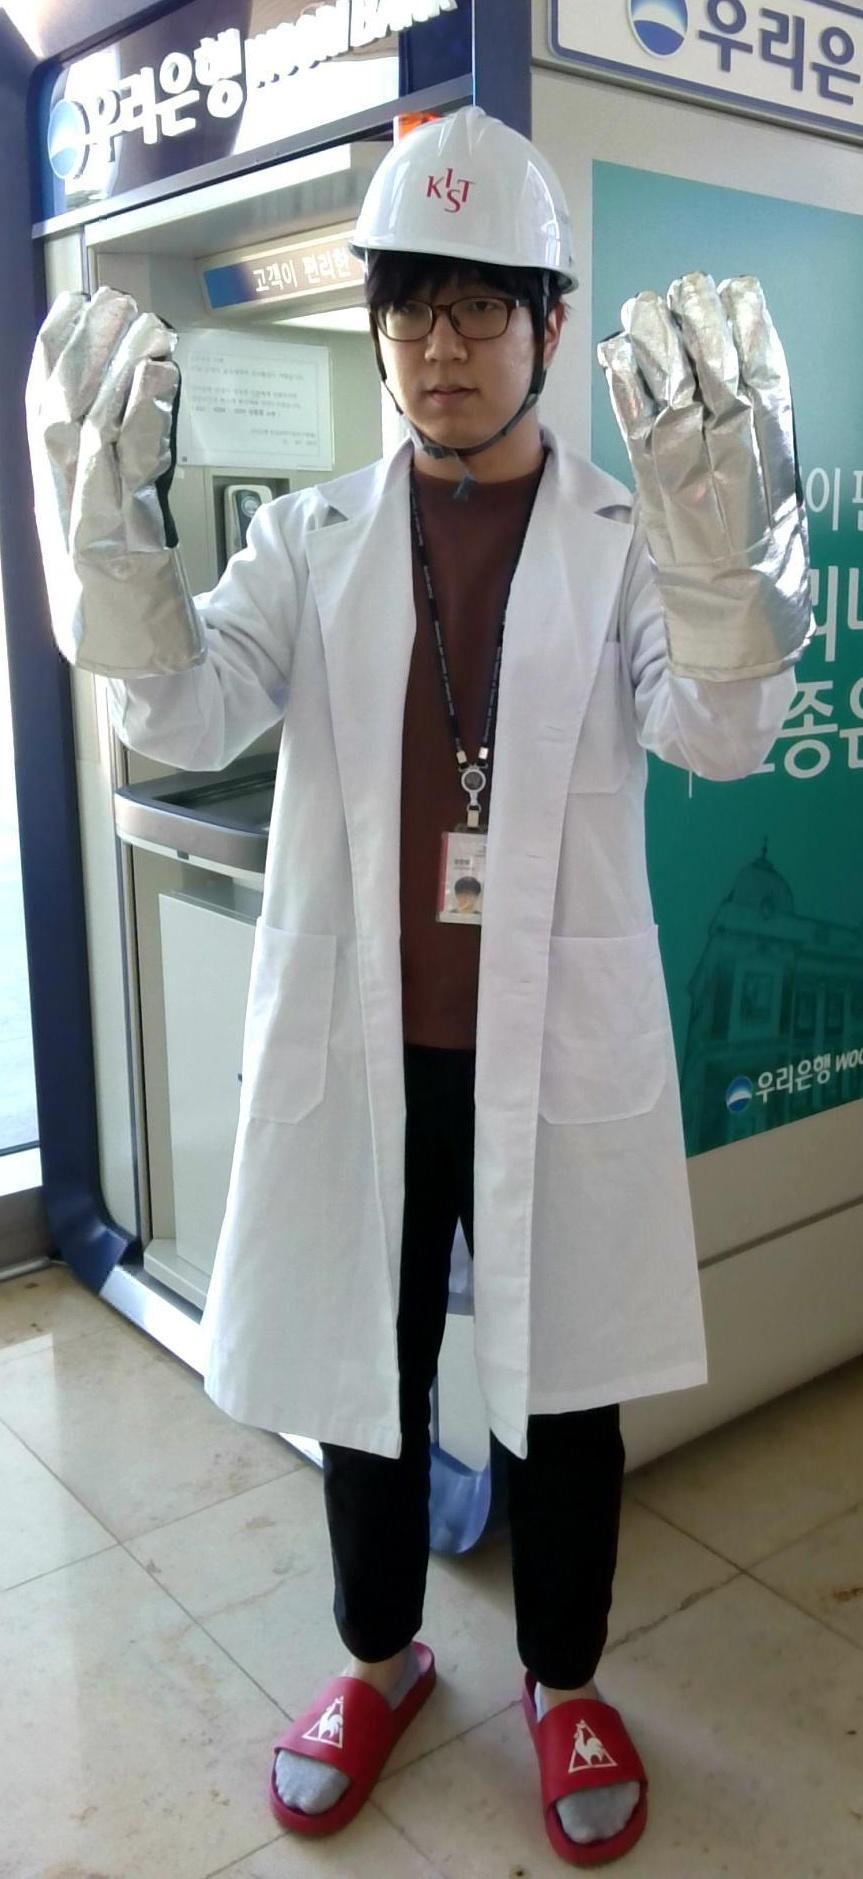lab_coat: (197, 507, 648, 1420)
